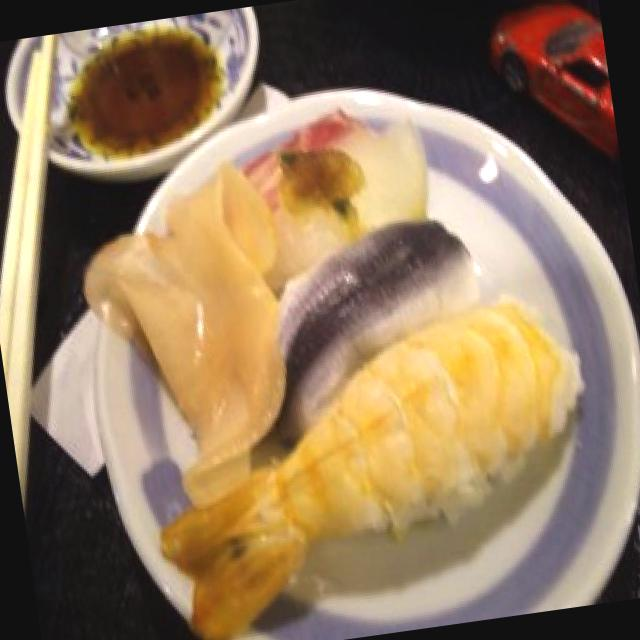Sushi: (118, 94, 568, 591)
